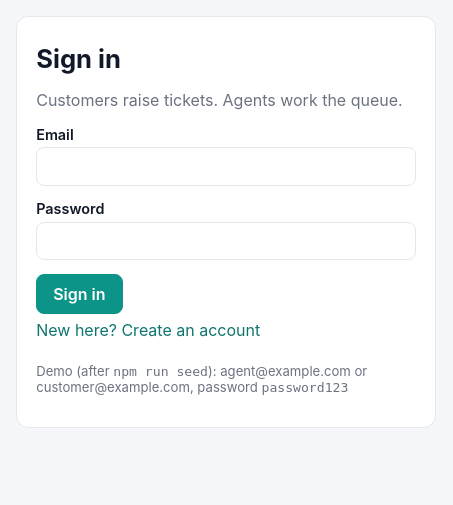
Test: LoginPage › shows the server error message
The image size is (453, 505).
Type "ali@example.com" into the field labelled "Email".
click(226, 166); type("ali@example.com")  # box top-left (36, 147), bottom-right (416, 186)
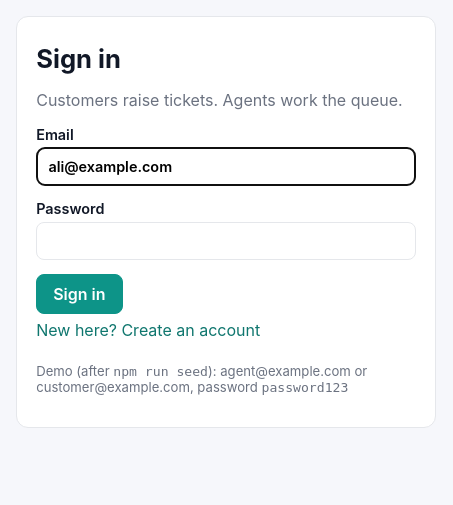
Type "nope" into the password field labelled "Password".
click(226, 241); type("nope")  # box top-left (36, 222), bottom-right (416, 260)
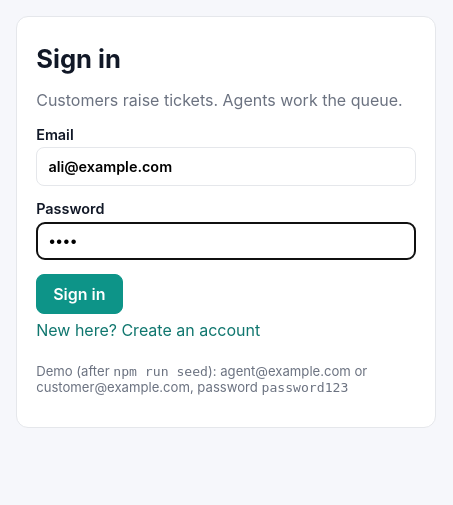
Click the button "Sign in".
click(79, 294)  # box top-left (36, 274), bottom-right (123, 314)
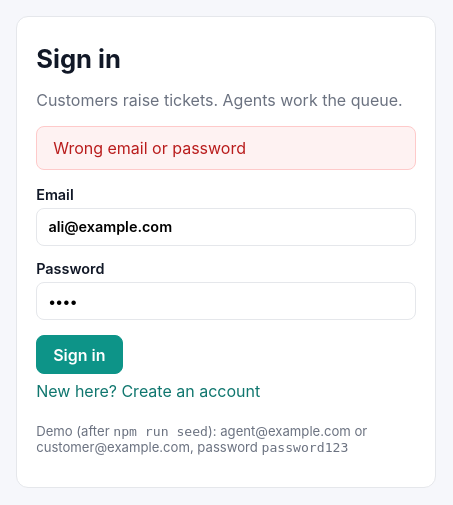
Expected: the message reads "Wrong email or password", top-left (53, 138), bottom-right (246, 158)
